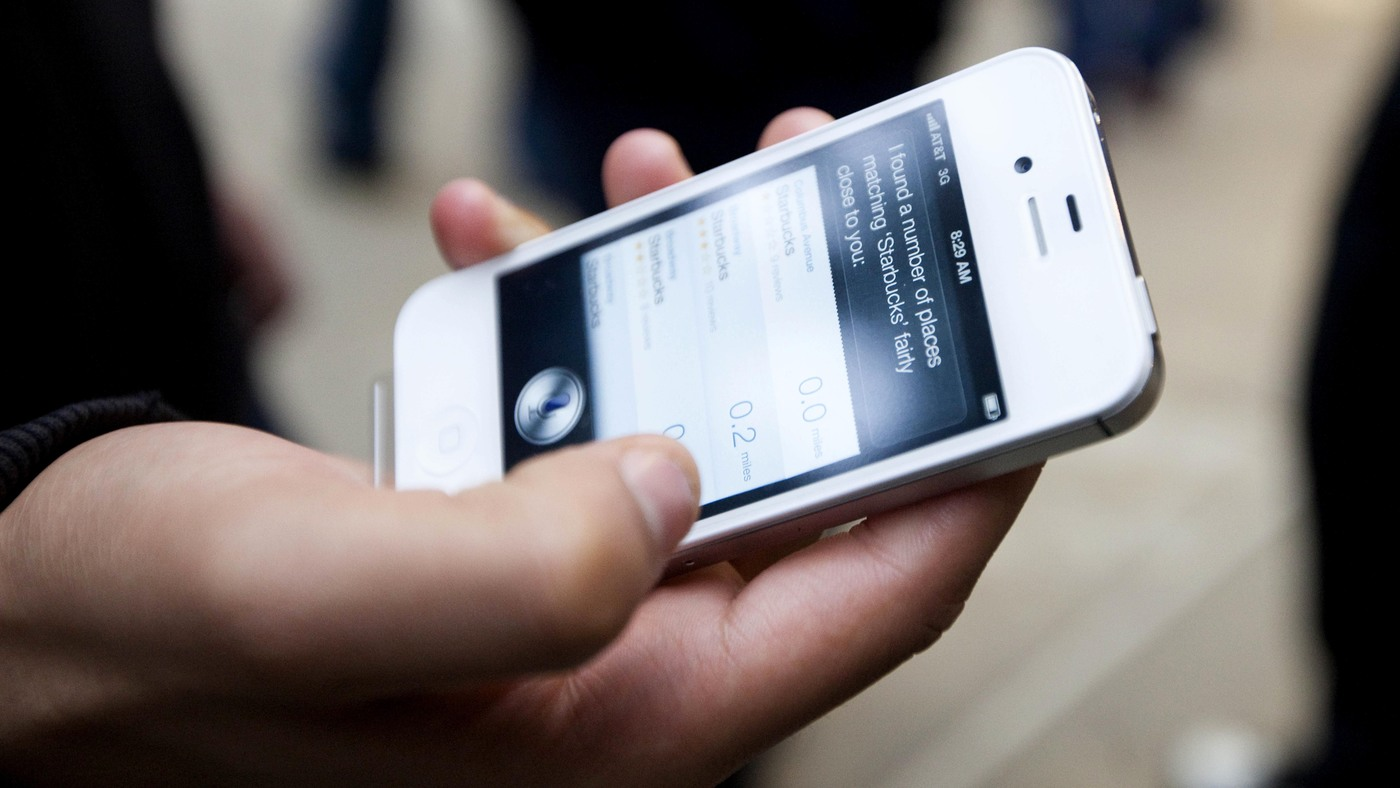smartphone: (390, 44, 1166, 581)
